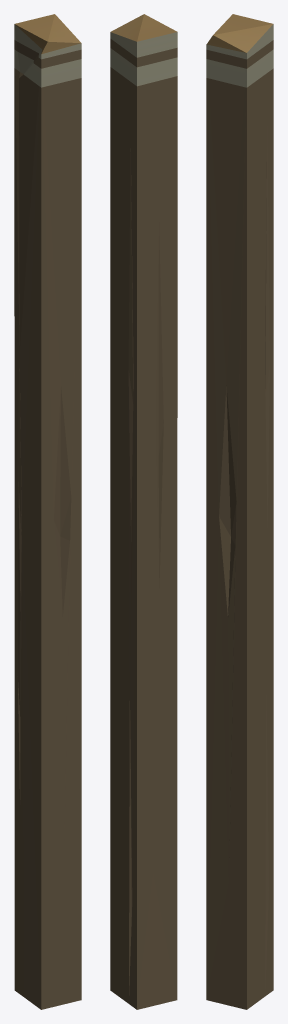
The model's file is Pole_6A.fbx.
The picture shows the model from 3 angles, left to right: view 1: azimuth 30°, elevation 25°; view 2: azimuth 210°, elevation 25°; view 3: azimuth 330°, elevation 25°; orthographic projection.
Parts seen in each view (by area): view 1: Group62945; view 2: Group62945; view 3: Group62945.
Boxes of the visible parts, left/top/right/bottom form: Group62945: left=14, top=14, right=81, bottom=1009; Group62945: left=110, top=14, right=177, bottom=1009; Group62945: left=206, top=14, right=273, bottom=1009.
Bounding box in the file's own units: 36.58 × 800 × 40.01.
